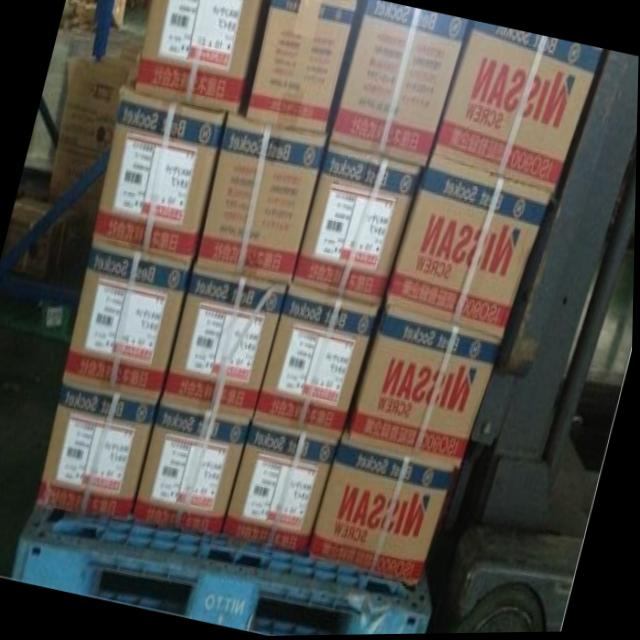box: (384, 155, 552, 336), (432, 23, 601, 195), (342, 294, 504, 467), (327, 0, 470, 171), (94, 77, 226, 262), (195, 113, 327, 285), (307, 440, 454, 592), (293, 142, 422, 305), (64, 241, 192, 399), (162, 265, 290, 420), (255, 285, 381, 438), (40, 382, 159, 519), (224, 420, 341, 556), (134, 402, 252, 535), (246, 0, 363, 133), (134, 0, 264, 113), (46, 55, 137, 209), (44, 204, 98, 296)
